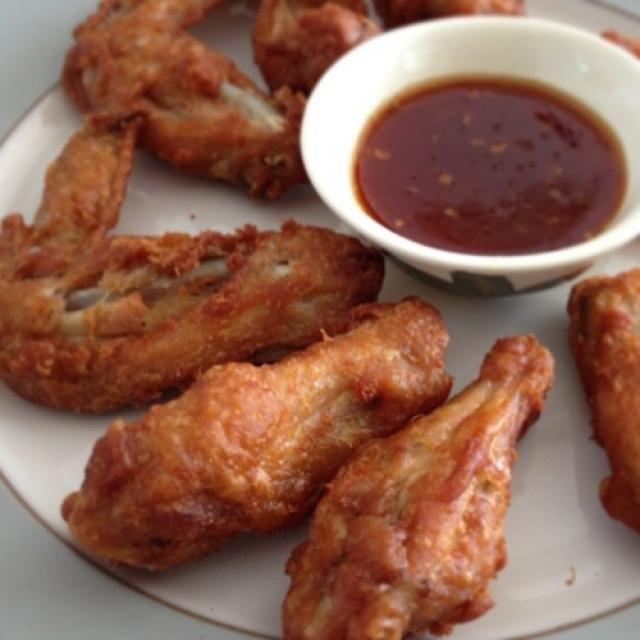Deep fried chicken wing: (10, 9, 534, 619)
